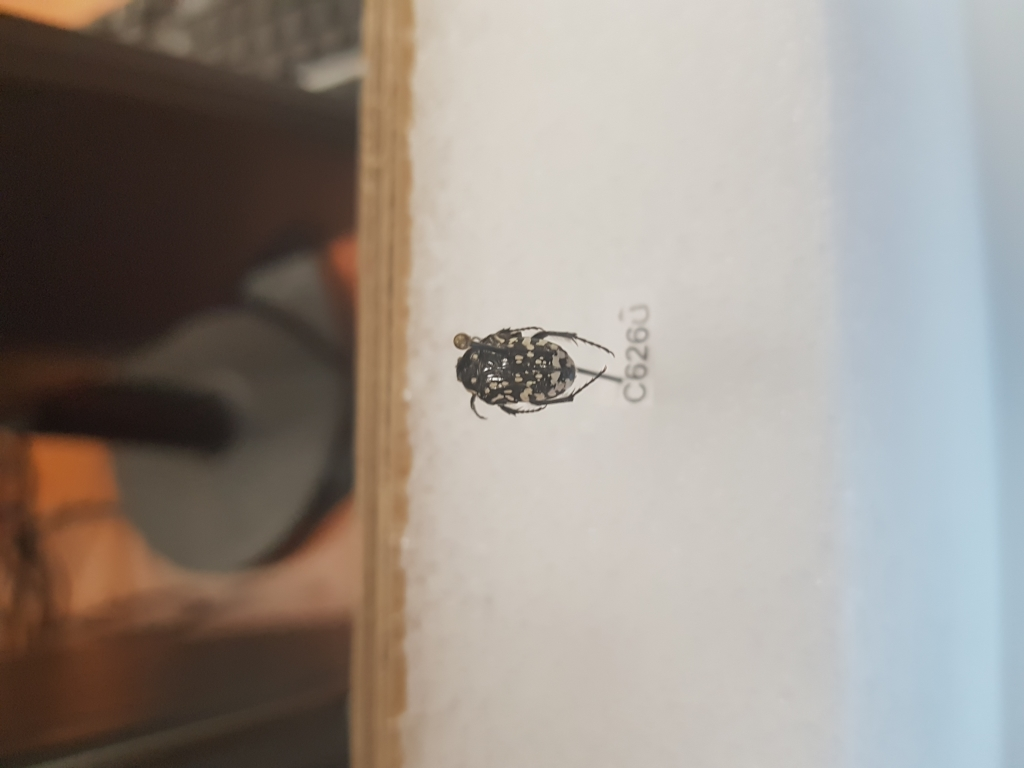Oxythyrea_funesta: (451, 328, 625, 420)
